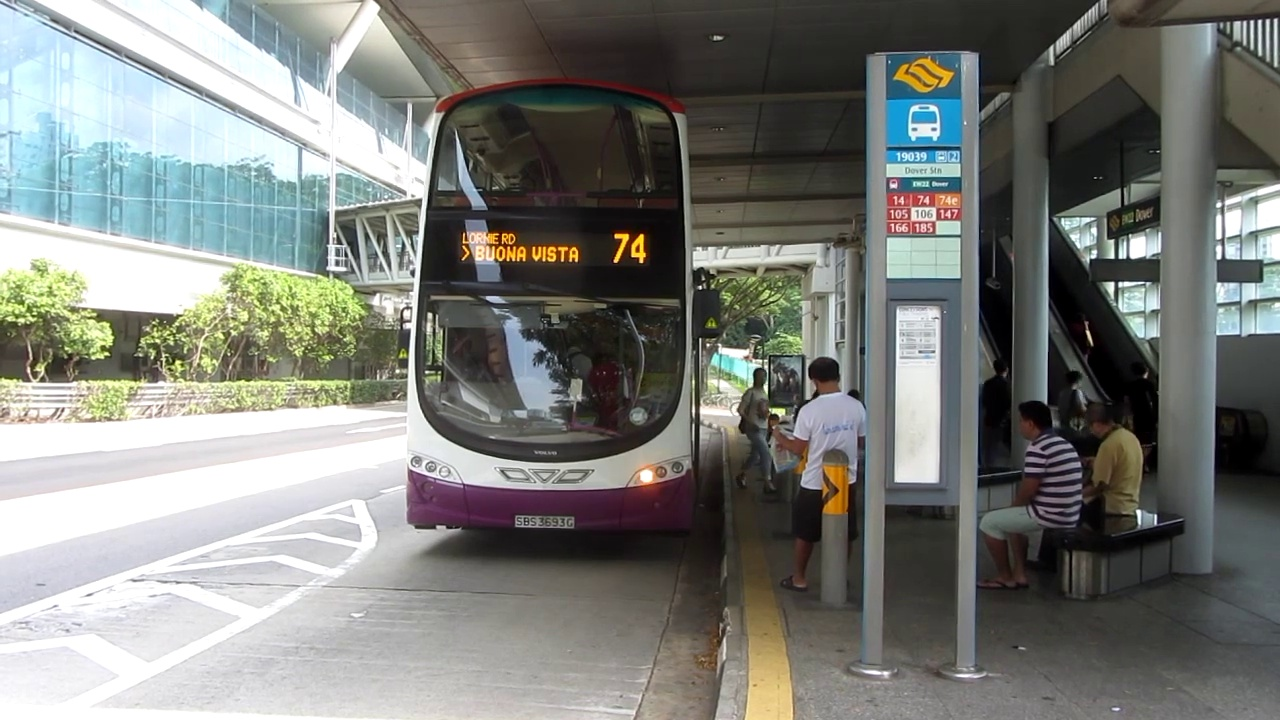bus panel: (454, 227, 653, 270)
